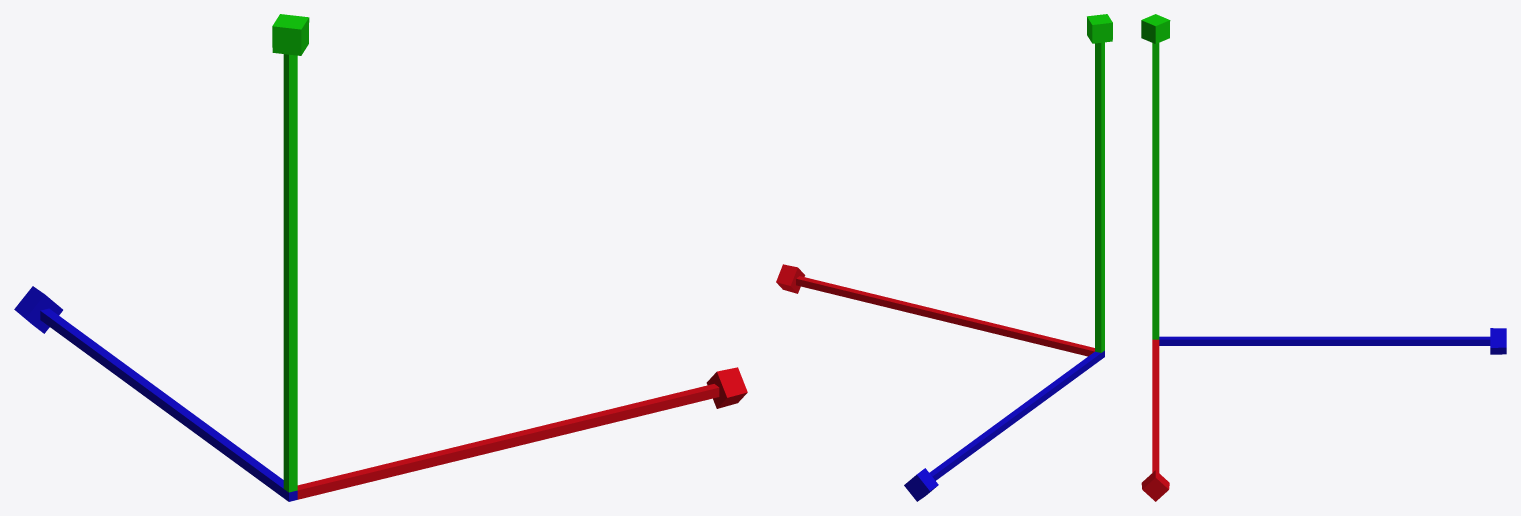
Rendered from Transform_scale_handle.fbx.
The picture shows the model from 3 angles, left to right: view 1: azimuth 30°, elevation 25°; view 2: azimuth 150°, elevation 25°; view 3: azimuth 270°, elevation 25°; orthographic projection. The views are drawn at different scales.
Parts seen in each view (by area): view 1: Cube; view 2: Cube; view 3: Cube.
Part boxes in pixels (<box>): Cube: <box>14,14,747,501</box>; Cube: <box>776,14,1112,501</box>; Cube: <box>1141,14,1506,501</box>.
Size of the model in its own units: 553 by 558 by 552.
